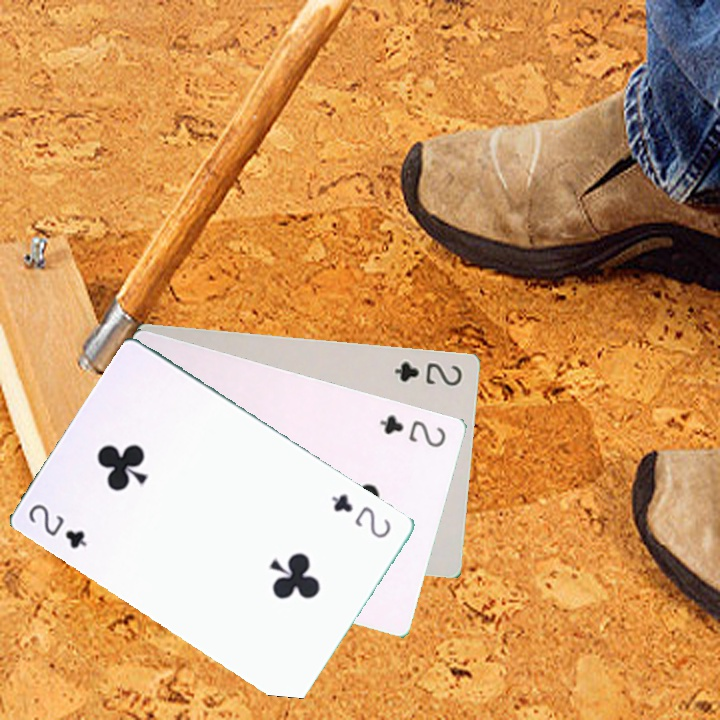2c: (327, 489, 394, 541), (24, 499, 90, 551), (375, 410, 448, 450), (390, 357, 465, 389)
